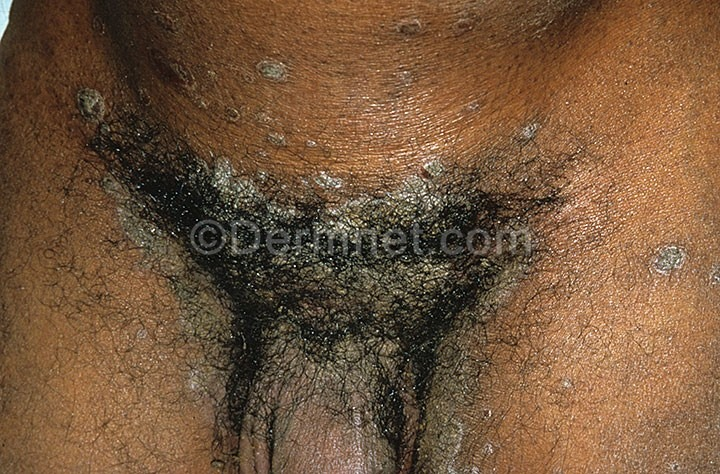Psoriasis: (69, 50, 571, 283), (184, 296, 390, 456), (398, 286, 543, 467), (613, 224, 720, 308)
